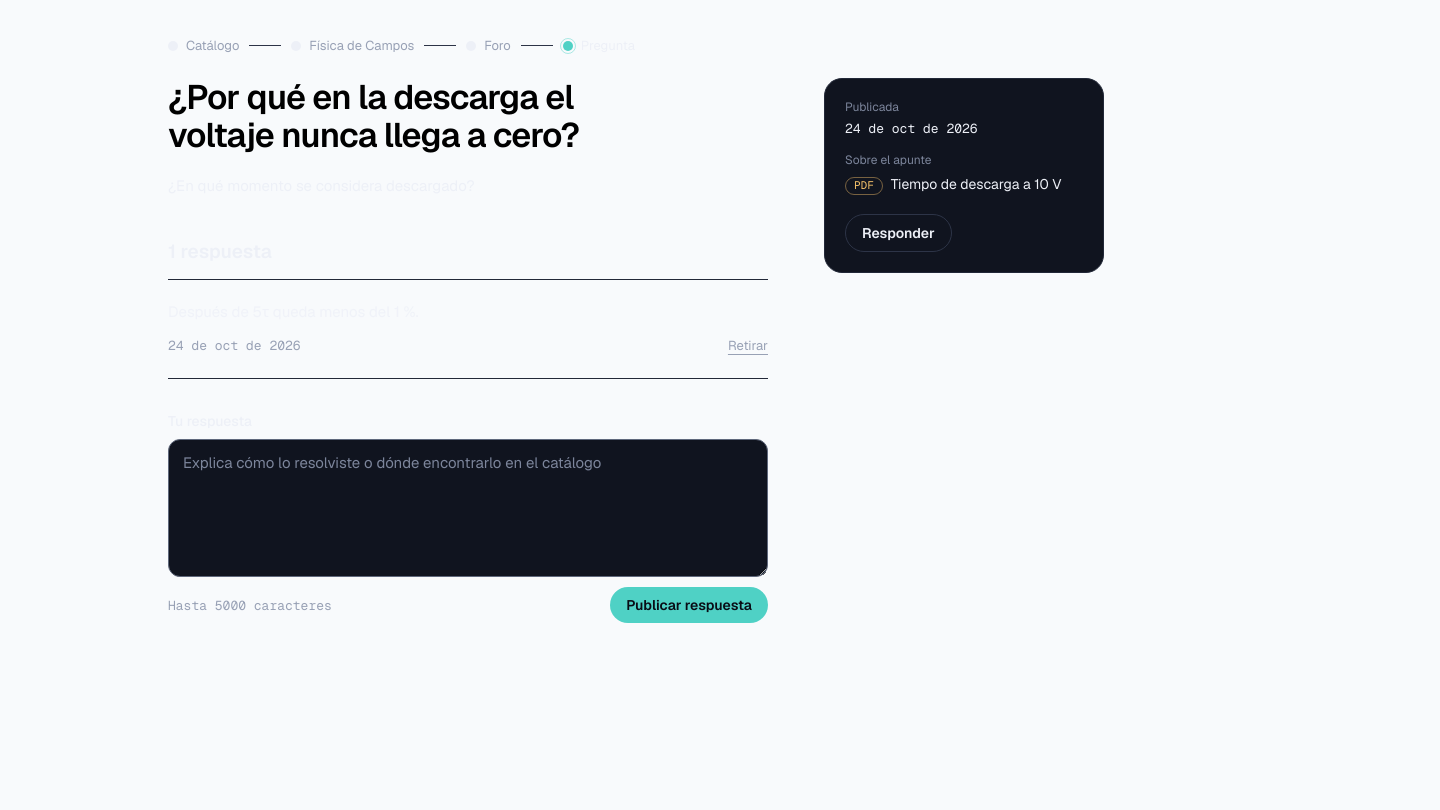
it: QuestionPage › si una acción falla lo avisa con su causa
Expected: the heading "¿Por qué en la descarga el voltaje nunca llega a cero?" is shown, [168, 74, 579, 157]
Click the button "Retirar" at point(748, 346), box [728, 334, 768, 358]
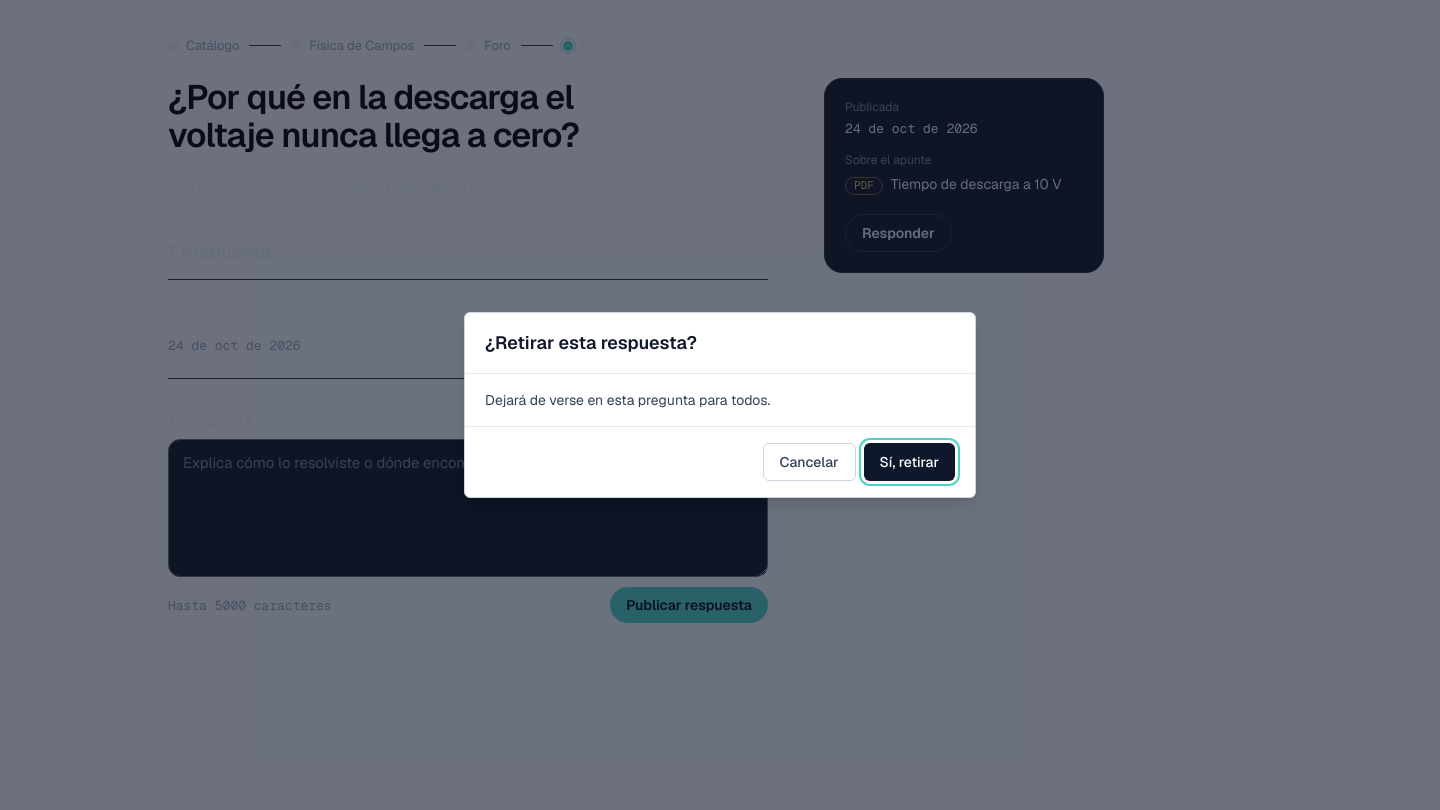
Click the button "Sí, retirar" at point(909, 462), box [864, 443, 955, 481]
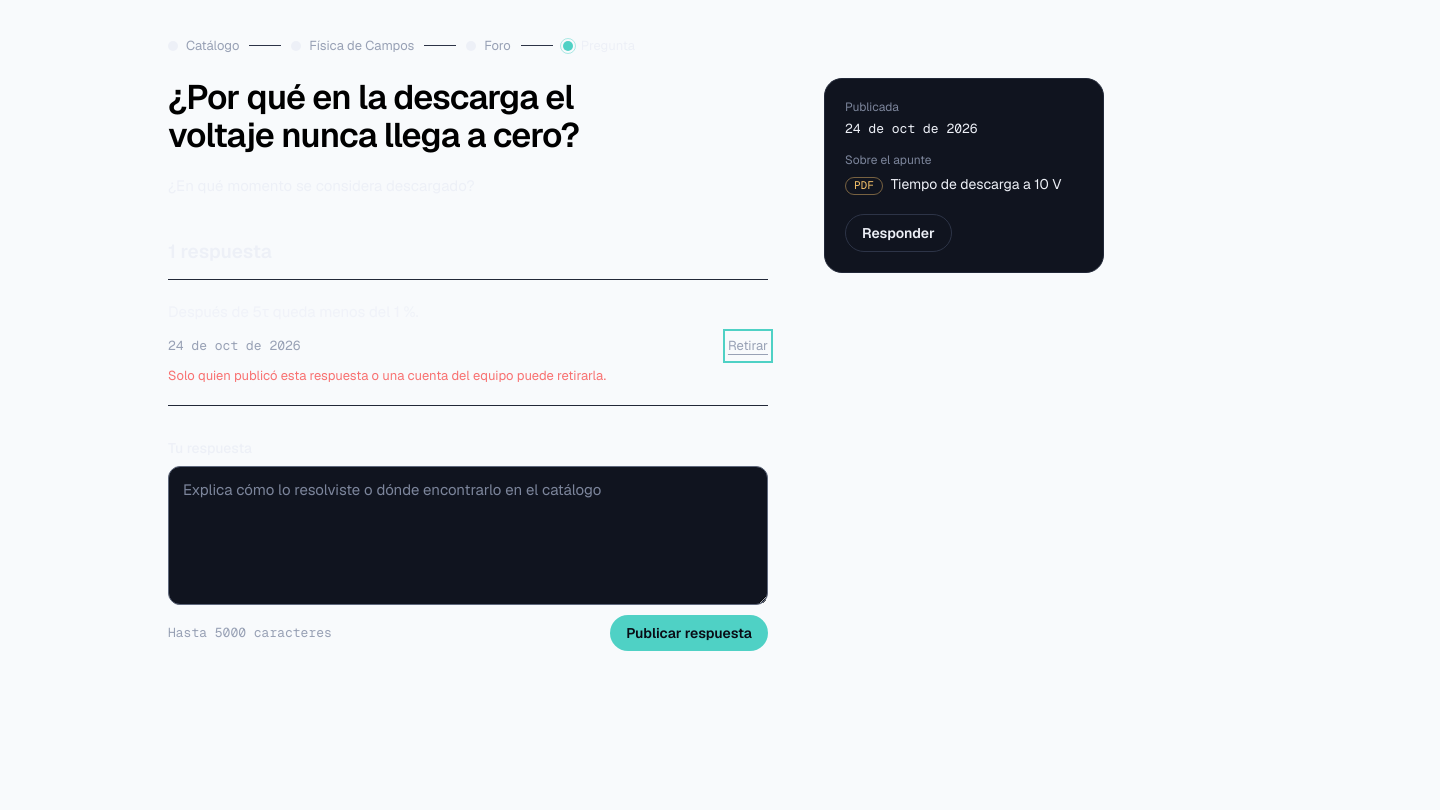
Expected: the message reads "Solo quien publicó esta respuesta o una cuenta del equipo puede retirarla.", [168, 367, 606, 384]
